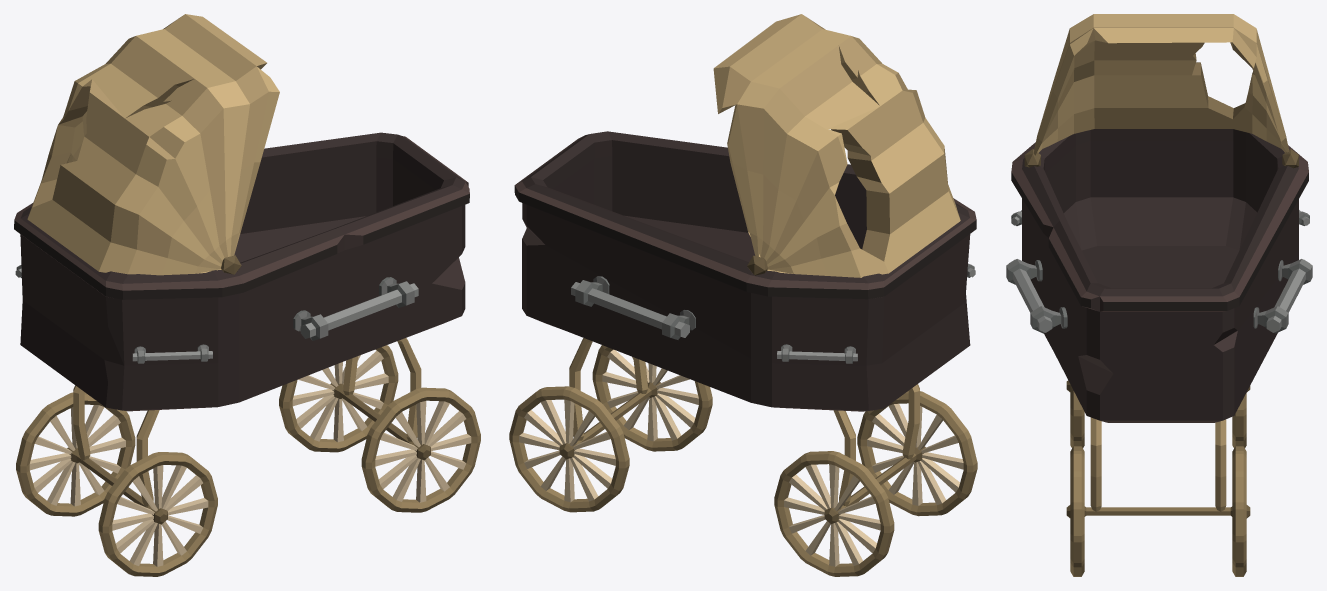
File: WF_LP_HT_Props_BabyCarriage.002.fbx
3 views of the same model, side by side, from view 1: azimuth 30°, elevation 25°; view 2: azimuth 150°, elevation 25°; view 3: azimuth 270°, elevation 25° (orthographic). The views are drawn at different scales.
Parts seen in each view (by area): view 1: WF_LP_HT_Props_BabyCarriage.002; view 2: WF_LP_HT_Props_BabyCarriage.002; view 3: WF_LP_HT_Props_BabyCarriage.002.
Boxes of the visible parts, x1,y1,x2,y2 form: WF_LP_HT_Props_BabyCarriage.002: [14, 14, 480, 576]; WF_LP_HT_Props_BabyCarriage.002: [509, 14, 977, 576]; WF_LP_HT_Props_BabyCarriage.002: [1006, 14, 1312, 576].
Size of the model in its own units: 1.18 by 1.41 by 0.8394.
